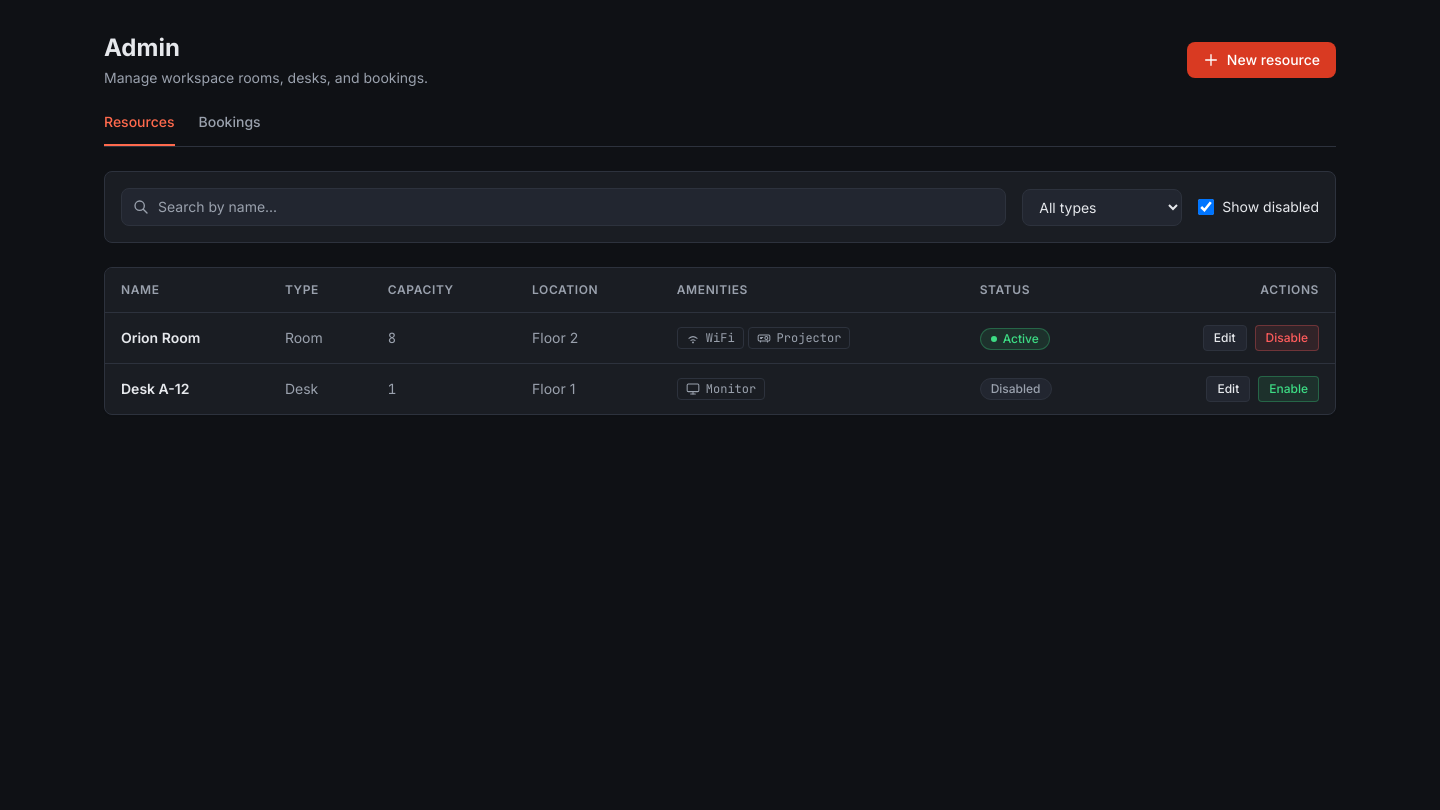
Test case: Admin Page › handles disable flow with ConfirmDialog
Click the button "Disable".
click(1287, 338)  # box [1254,325,1319,351]
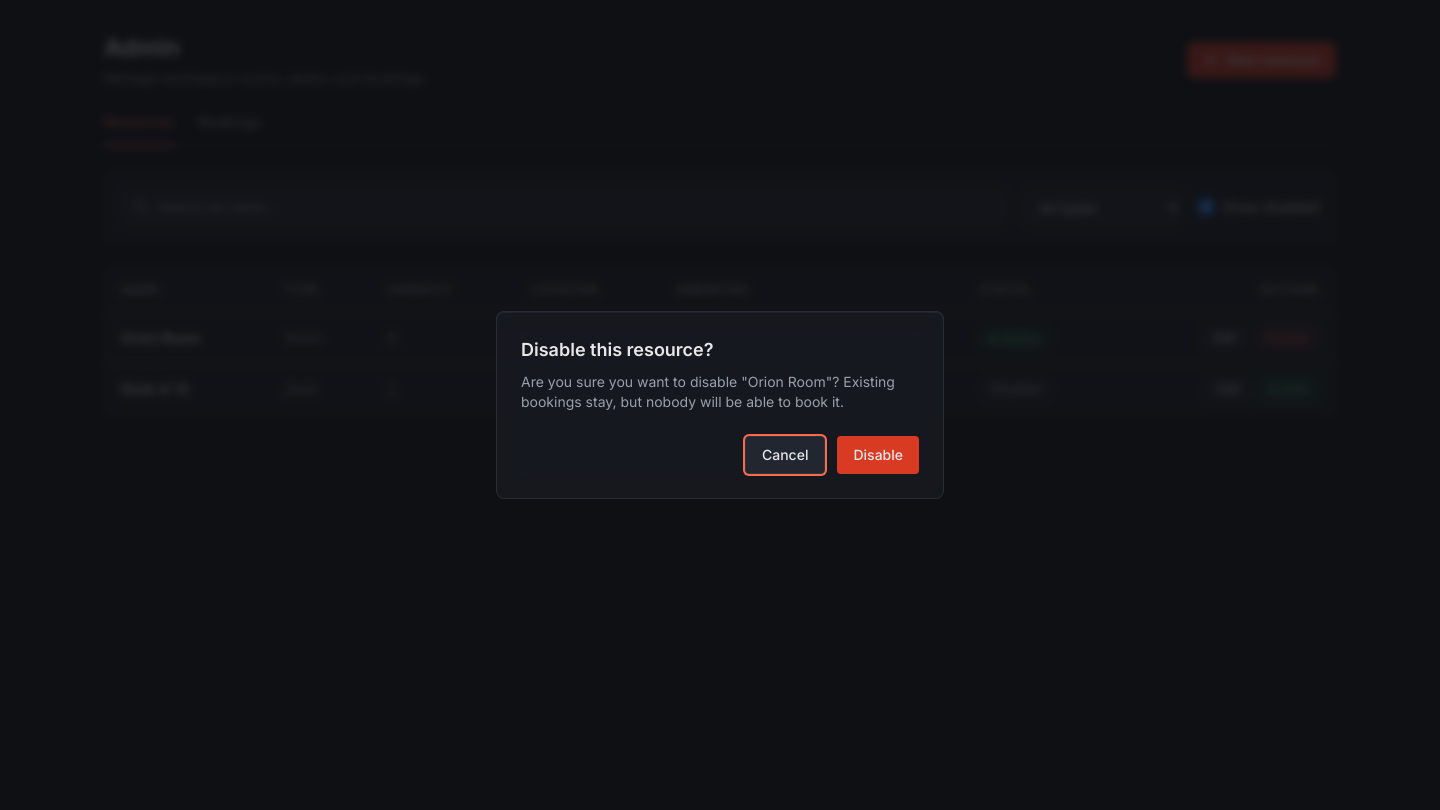
Result: the dialog is shown at [496,311,944,499]
Result: the heading "Disable this resource?" is shown at [521,339,714,360]
Result: the text "Existing bookings stay, but nobody will be able to book it" is shown at [521,373,895,410]
Click the button "Disable".
click(878, 455)  # box [838,436,919,474]
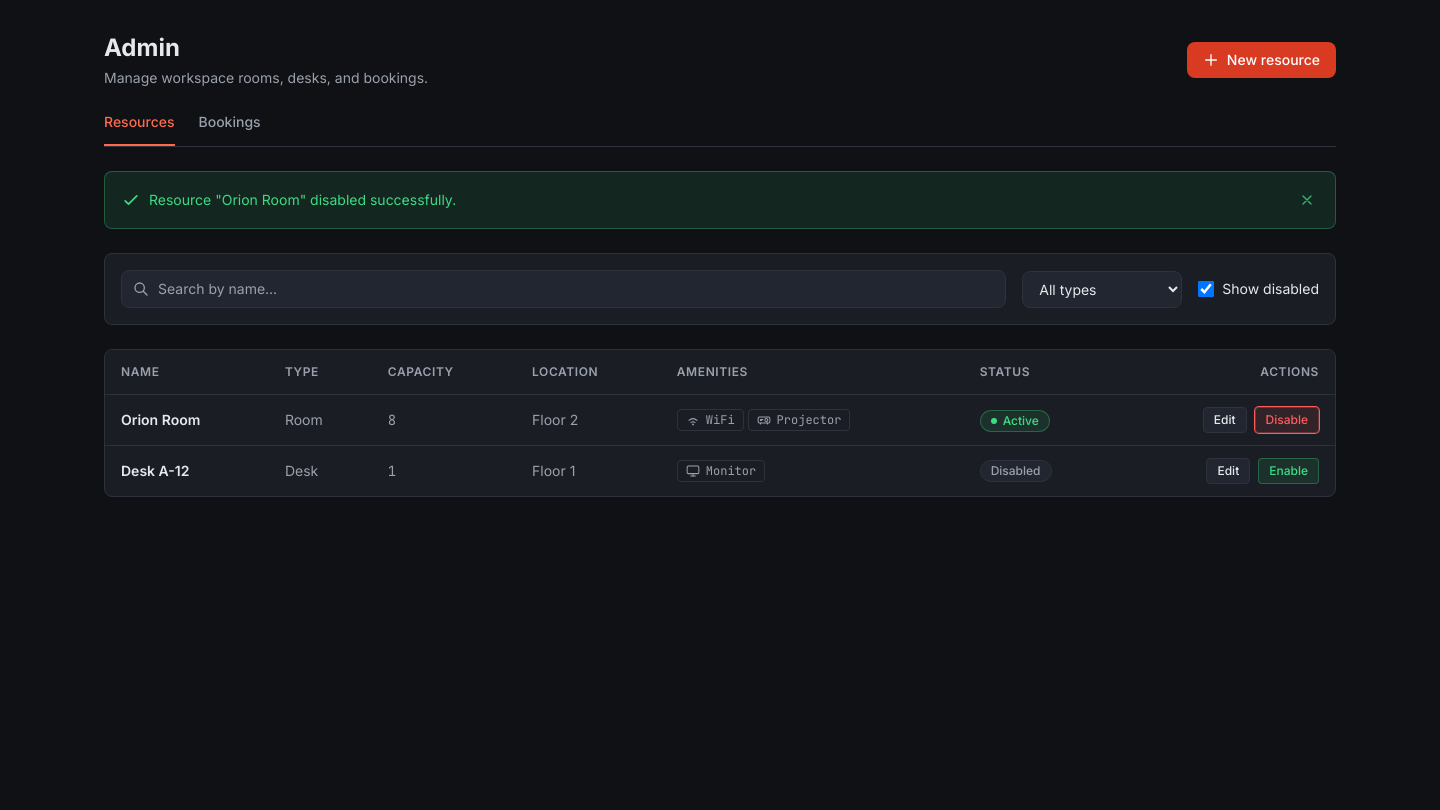
Result: the message with test id "admin-notice" shows "disabled successfully" at [149,191,456,208]
